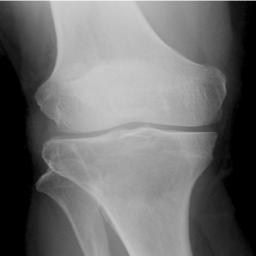cancer: (47, 129, 214, 202)
